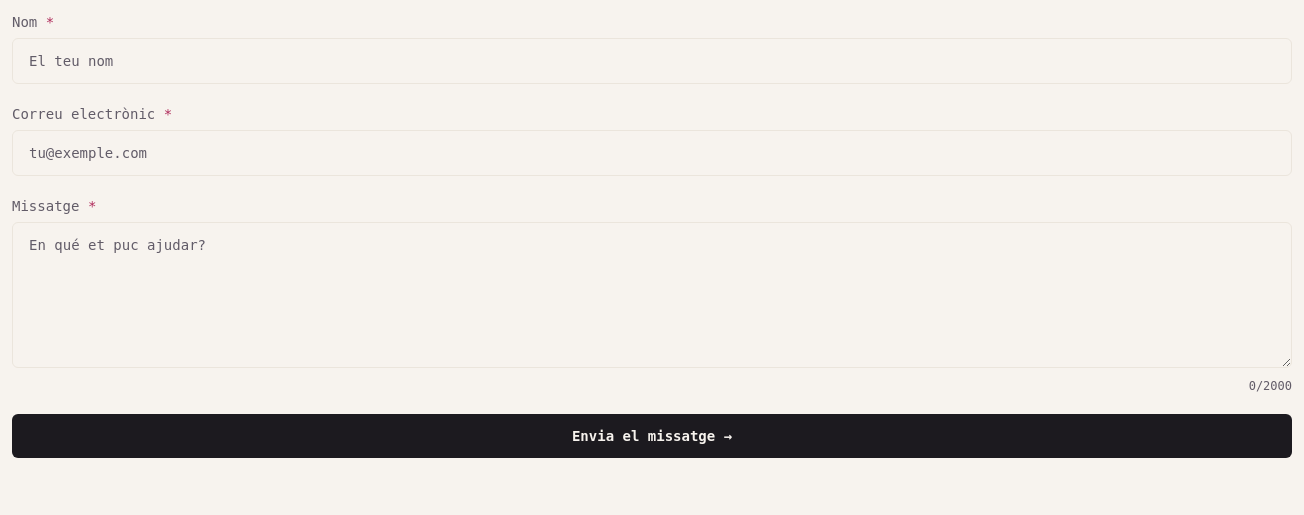
Test: ContactForm — error states › shows network error message when fetch rejects
Type "Anna Garcia" into the field labelled "Nom *" at (652, 61), box [12,38,1292,84]
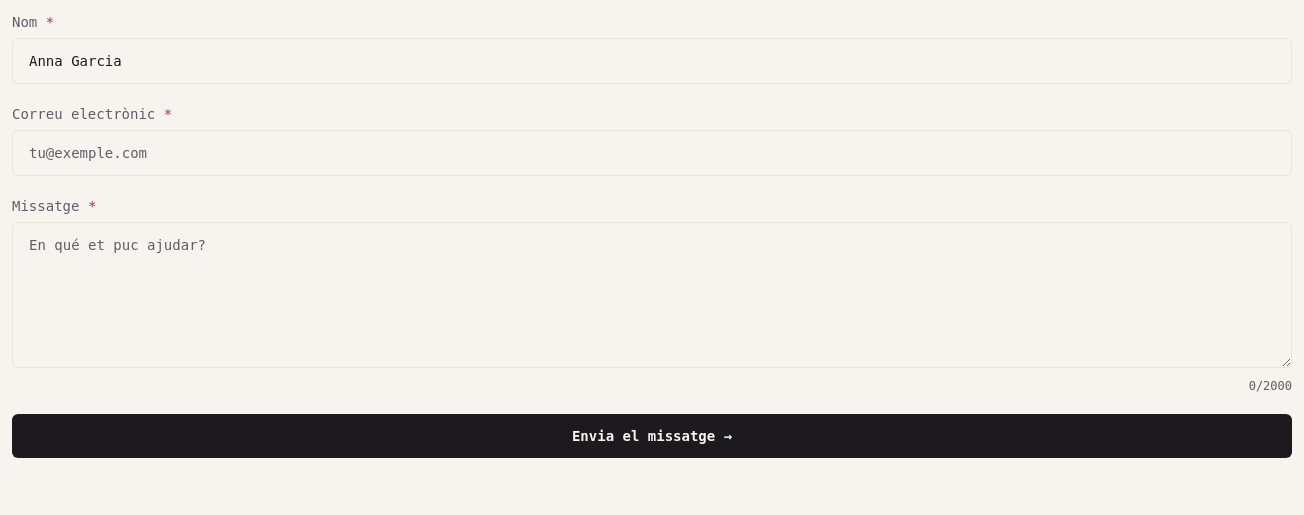
Type "anna@exemple.com" into the field labelled "Correu electrònic *" at (652, 153), box [12,130,1292,176]
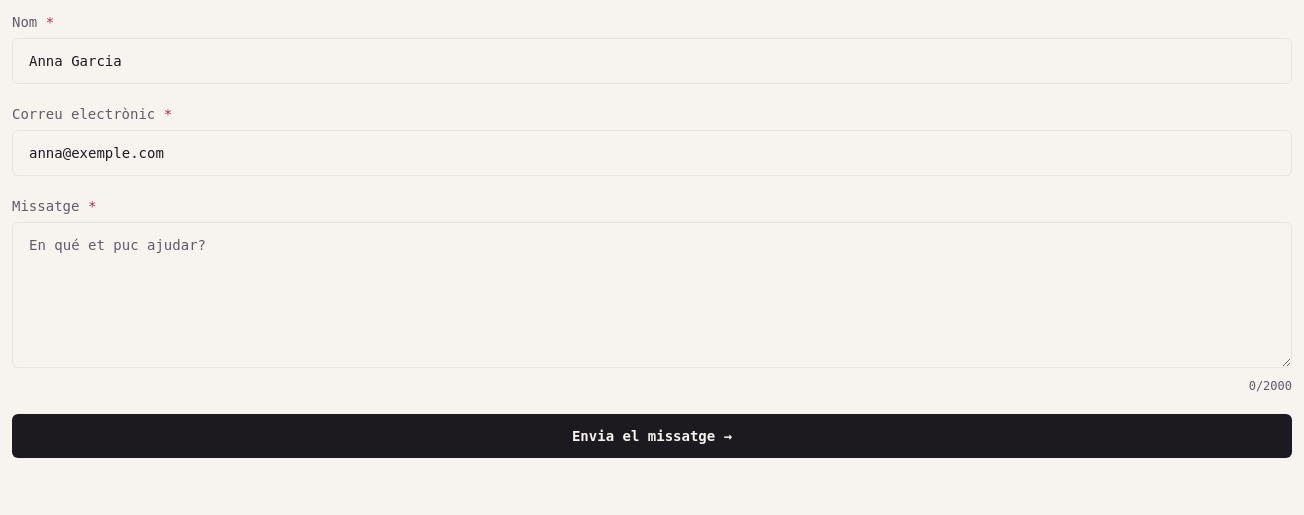
Type "Hola, tinc una pregunta!" into the text box labelled "Missatge *" at (652, 295), box [12,222,1292,368]
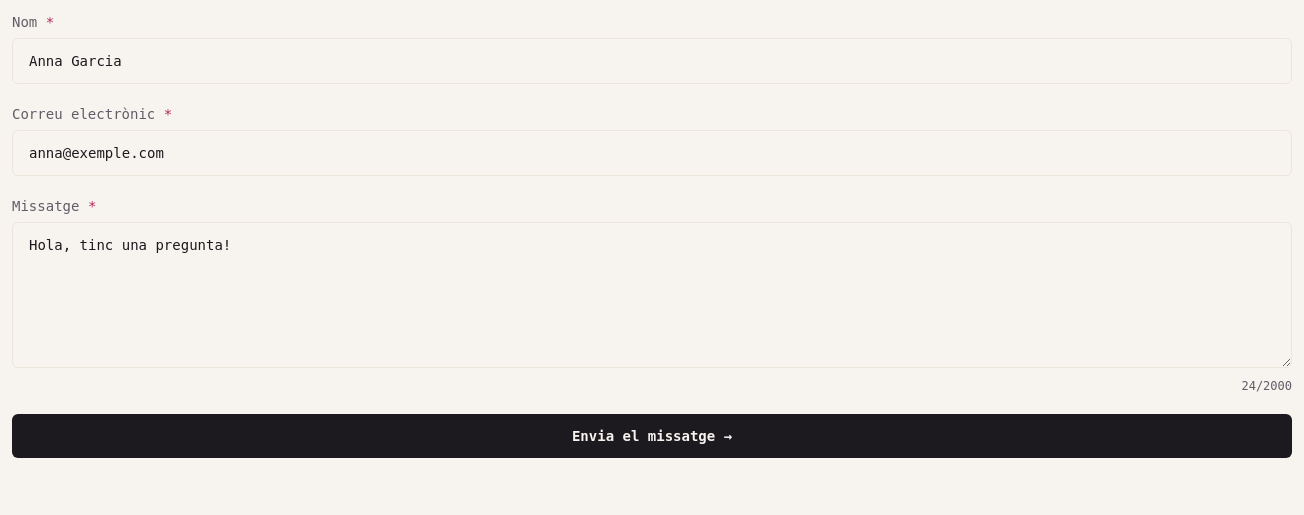
Submit the form
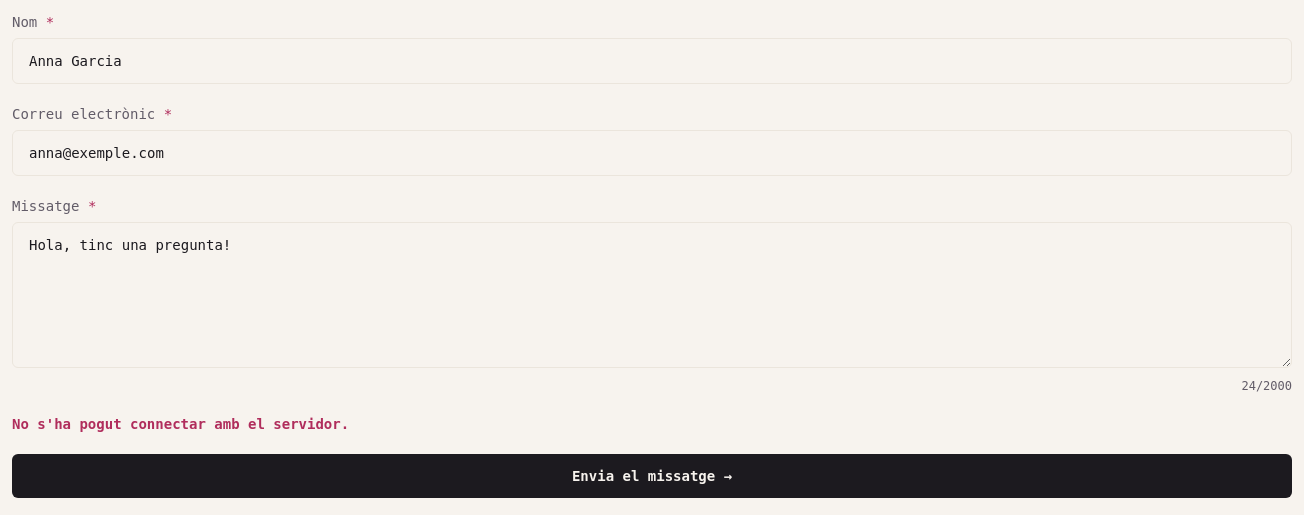
Expected: the text "No s'ha pogut connectar amb el servidor." is shown, [12,416,349,432]
